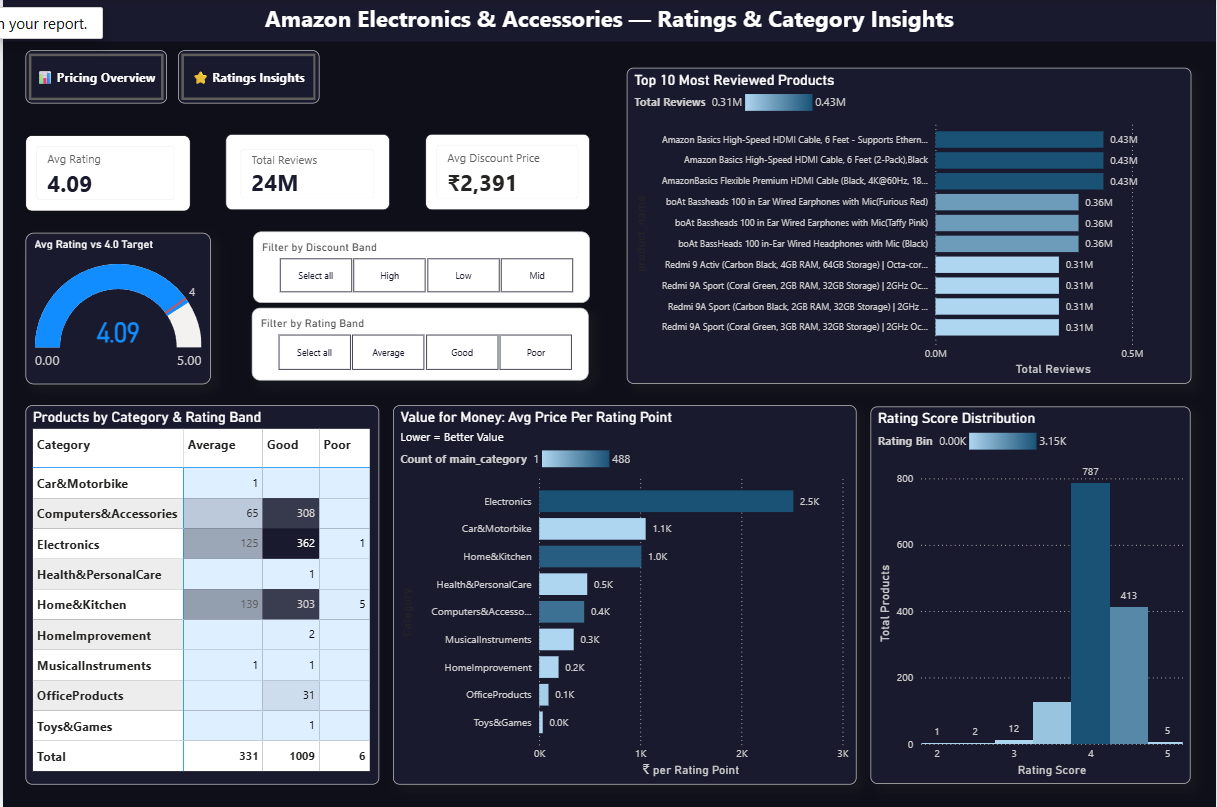

The dashboard page shown, as its layout file describes it:
{"tool":"powerbi","page":{"name":"Ratings & Category Insights","canvas":[1440,960],"ordinal":1},"visuals":[{"type":"textbox","box":[0,0,1440,50],"z":0},{"type":"cardVisual","fields":{"Data":["_Measures.Avg Rating"]},"box":[27.1,161.4,195.7,90],"z":1000},{"type":"gauge","title":" Avg Rating vs 4.0 Target","fields":{"Y":["_Measures.Avg Rating"],"TargetValue":["_Measures.Target Rating"]},"box":[27.1,277.1,220,180],"z":2000},{"type":"cardVisual","fields":{"Data":["_Measures.Total Reviews"]},"box":[264.8,160,195,90],"z":3000},{"type":"slicer","title":"Filter by Discount Band","fields":{"Values":["amazon.discount_band"]},"box":[296.7,276.7,400,85],"z":4000},{"type":"cardVisual","fields":{"Data":["_Measures.Avg Discount Price"]},"box":[501.7,160,195,90],"z":5000},{"type":"slicer","title":"Filter by Rating Band","fields":{"Values":["amazon.rating_band"]},"box":[295.8,366.7,400,86.7],"z":6000},{"type":"clusteredColumnChart","title":"Rating Score Distribution","fields":{"Category":["amazon.Rating Bin"],"Y":["_Measures.Total Products"]},"box":[1030,483.3,380,448.3],"z":7000},{"type":"pivotTable","title":"Products by Category & Rating Band","fields":{"Rows":["amazon.main_category"],"Columns":["amazon.rating_band"],"Values":["_Measures.Total Products"]},"box":[27.1,482.9,420,450],"z":8000},{"type":"clusteredBarChart","title":" Value for Money: Avg Price Per Rating Point","fields":{"Category":["amazon.main_category"],"Y":["_Measures.Avg Price Per Rating"]},"box":[463.6,482.9,550,450],"z":9000},{"type":"clusteredBarChart","title":"Top 10 Most Reviewed Products","fields":{"Y":["_Measures.Total Reviews"],"Category":["amazon.product_name"]},"box":[740,81.7,670,375],"z":10000},{"type":"actionButton","title":"📊 Pricing Overview","box":[207.2,60.8,167.7,63.1],"z":11000},{"type":"actionButton","title":"📊 Pricing Overview","box":[26.7,60.7,168,63.3],"z":12000}]}

Visuals, with their boxes in screenshot pixels (x1, y1, x2, y2), scaled from the page's 1440x960 canvas onto the 1217x807 screenshot:
textbox: (0,0,1216,42)
cardVisual - _Measures.Avg Rating: (23,136,188,211)
" Avg Rating vs 4.0 Target" gauge: (23,233,209,384)
cardVisual - _Measures.Total Reviews: (224,134,389,210)
"Filter by Discount Band" slicer: (251,233,589,304)
cardVisual - _Measures.Avg Discount Price: (424,134,589,210)
"Filter by Rating Band" slicer: (250,308,588,381)
"Rating Score Distribution" clusteredColumnChart: (870,406,1192,783)
"Products by Category & Rating Band" pivotTable: (23,406,378,784)
" Value for Money: Avg Price Per Rating Point" clusteredBarChart: (392,406,857,784)
"Top 10 Most Reviewed Products" clusteredBarChart: (625,69,1192,384)
"📊 Pricing Overview" actionButton: (175,51,317,104)
"📊 Pricing Overview" actionButton: (23,51,165,104)
